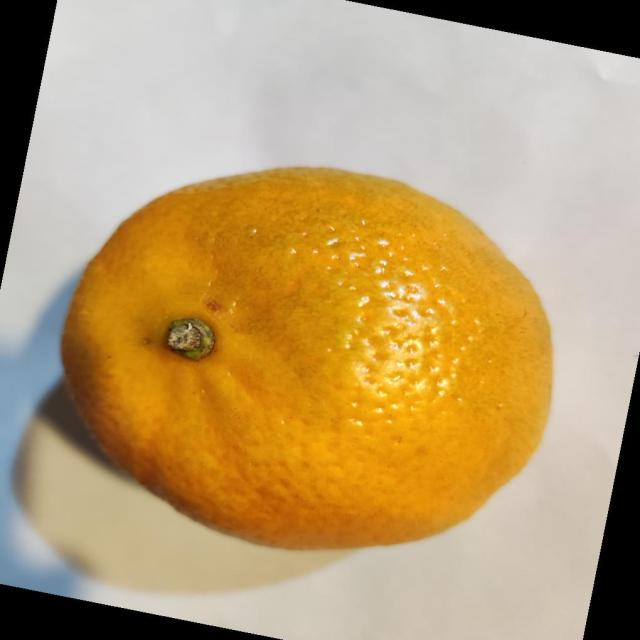fresh orange: (59, 164, 555, 551)
